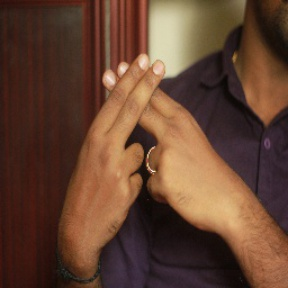F: (67, 46, 215, 187)
